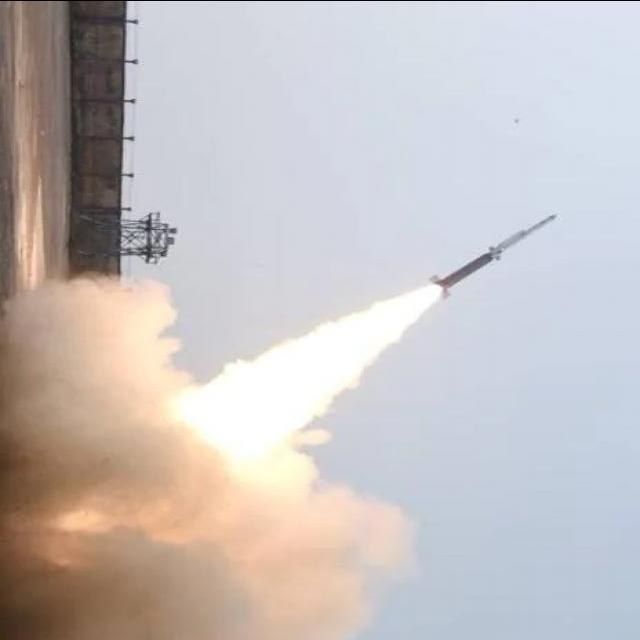missile: (442, 214, 558, 301)
